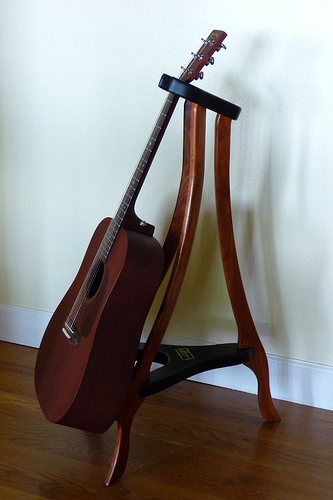guitar: (31, 25, 229, 437)
